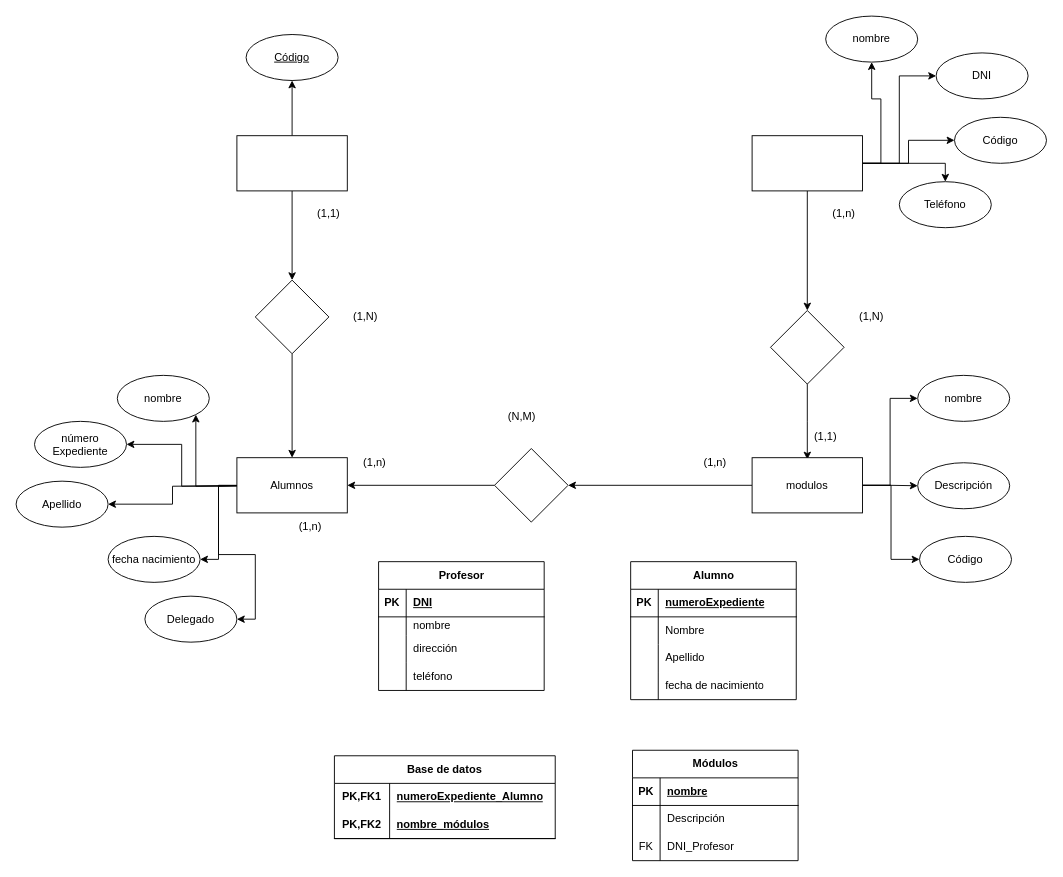
Image size: 1063x877. Some labels were removed from this diagram. Each missing label, with the centre of its shape:
"clases" belongs at [291,163].
"estan" belongs at [291,316].
"imparten" belongs at [807,347].
"profesores" belongs at [806,163].
"reciben" belongs at [531,485].
